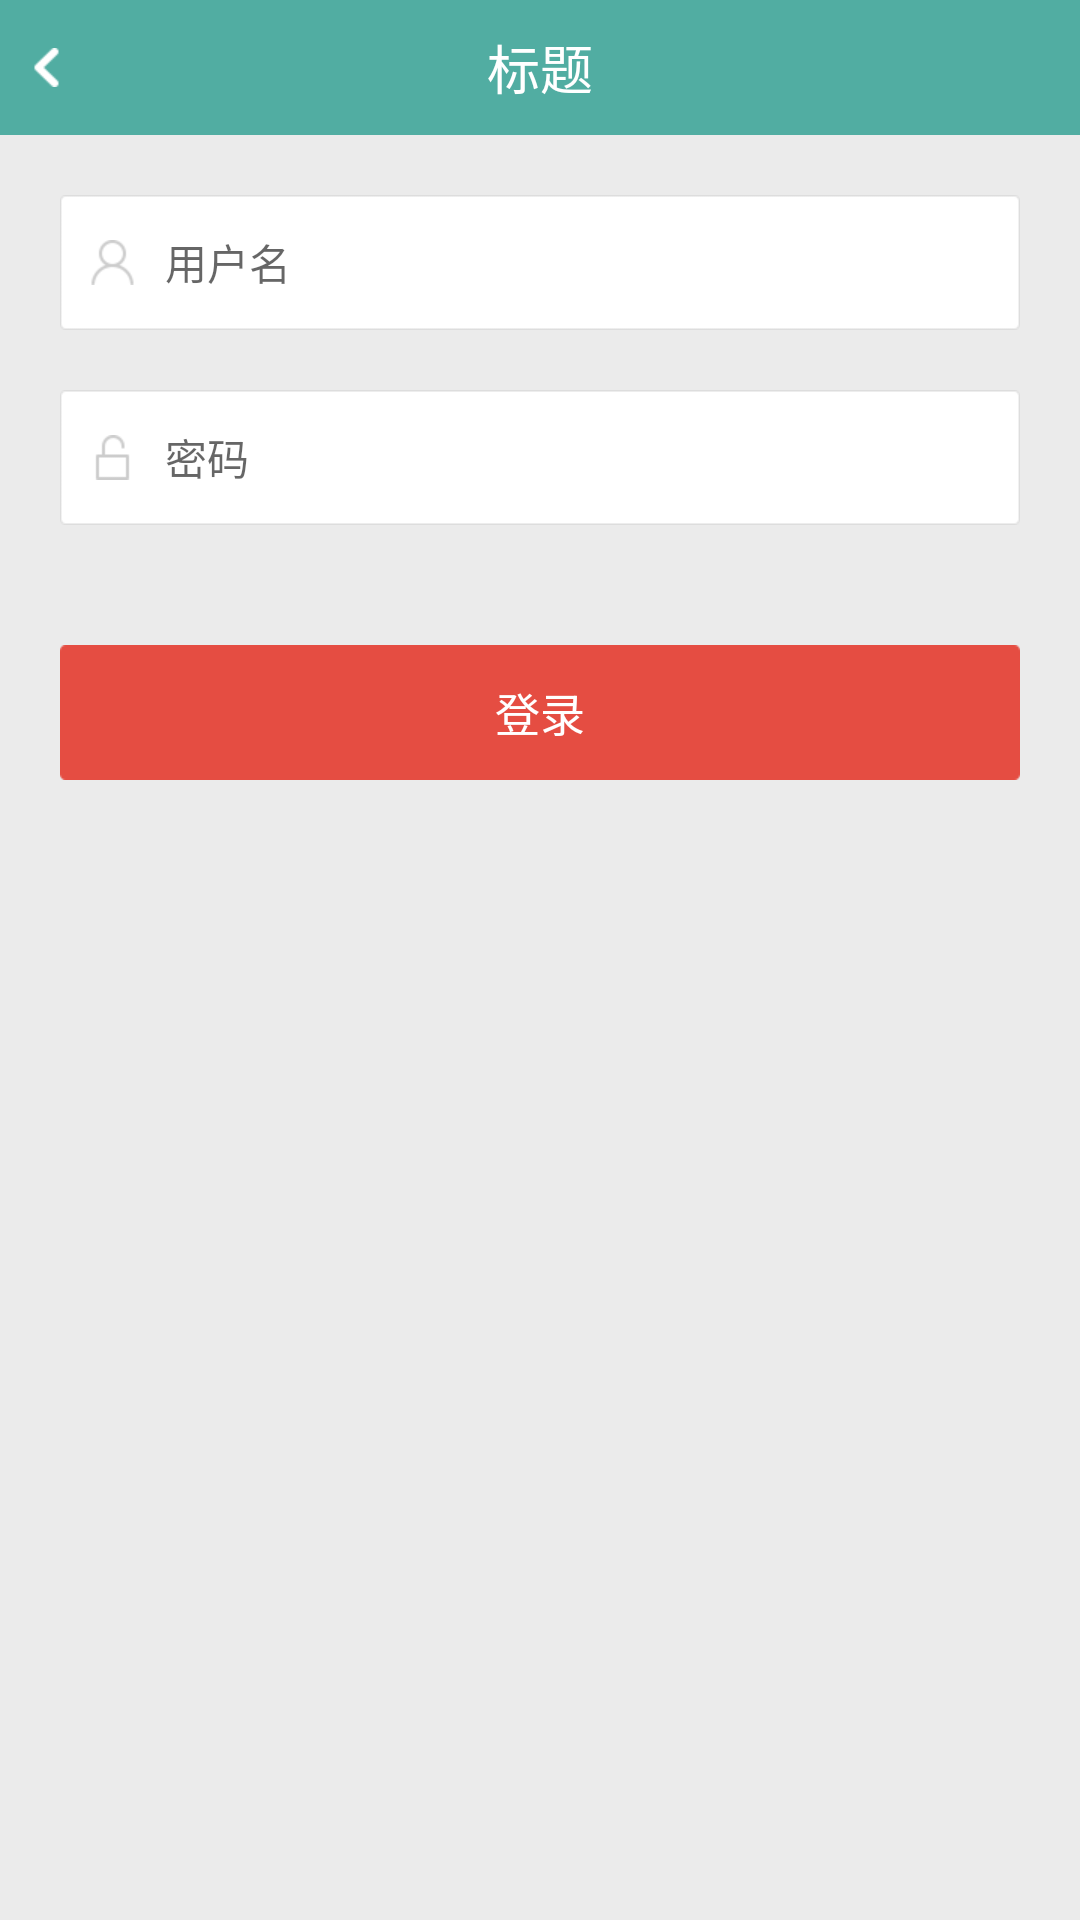

Icon bounding boxes for this 1080px x 1920px phone screenshot, format (x1, y1, x2, y2):
back index: (34, 48, 59, 87)
register autor: (92, 240, 133, 285)
